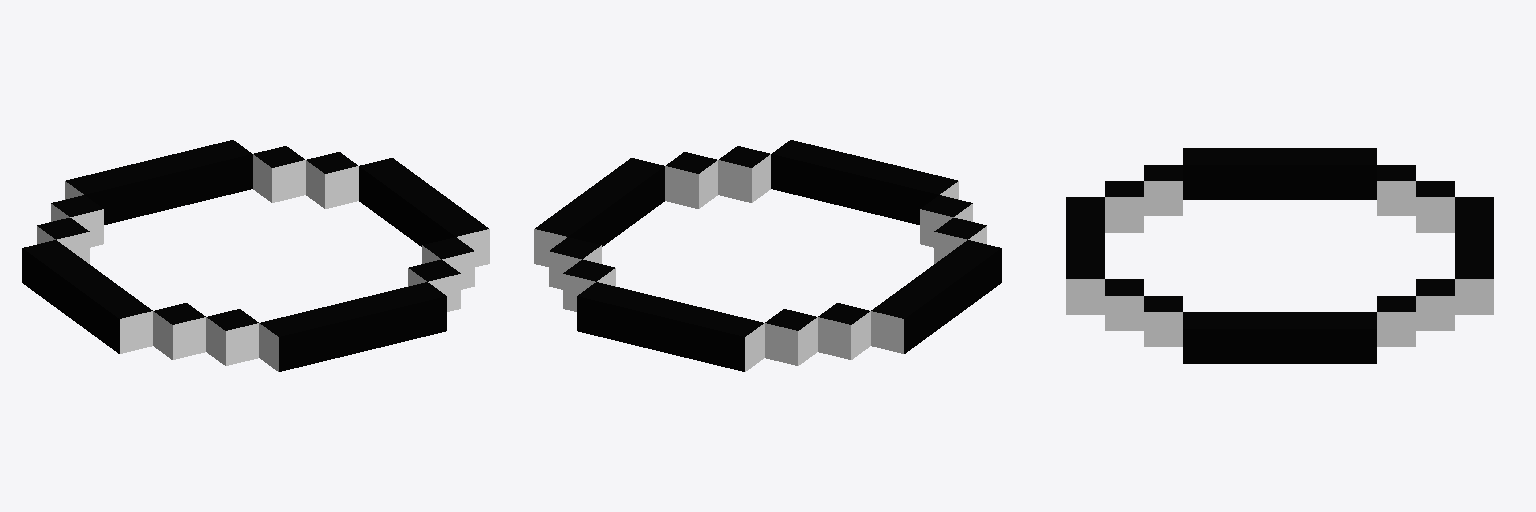
Rendered from RingBlack.obj.
3 views of the same model, side by side, from view 1: azimuth 30°, elevation 25°; view 2: azimuth 150°, elevation 25°; view 3: azimuth 270°, elevation 25° (orthographic).
Visible parts, largest first — view 1: pCube38 RingFinalBlack; view 2: pCube38 RingFinalBlack; view 3: pCube38 RingFinalBlack.
Part boxes in pixels (left/top/right/bottom): pCube38 RingFinalBlack: left=22, top=140, right=489, bottom=371; pCube38 RingFinalBlack: left=534, top=140, right=1001, bottom=371; pCube38 RingFinalBlack: left=1066, top=148, right=1493, bottom=363.
Bounding box in the file's own units: 1.1 × 0.1 × 1.1.